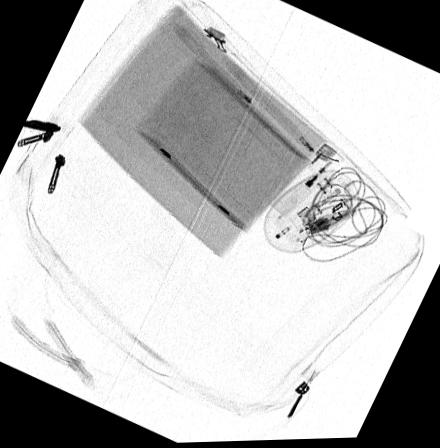Lighter: (265, 144, 341, 221)
